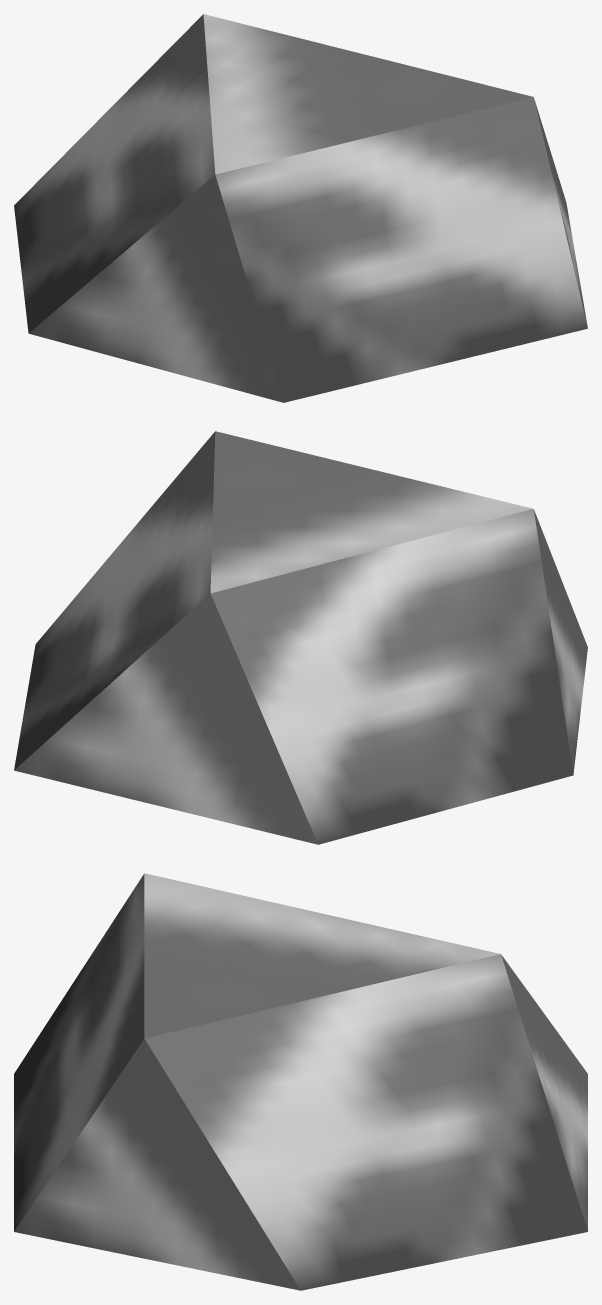
The picture shows the model from 3 angles, top to bottom: view 1: azimuth 30°, elevation 25°; view 2: azimuth 150°, elevation 25°; view 3: azimuth 270°, elevation 25°; orthographic projection. The views are drawn at different scales.
Visible parts, largest first — view 1: root; view 2: root; view 3: root.
Boxes of the visible parts, x1,y1,x2,y2 form: root: [14, 14, 587, 402]; root: [14, 431, 587, 844]; root: [14, 873, 587, 1290].
Size of the model in its own units: 0.1484 by 0.0488 by 0.1289.
1 material, 1 textured.
